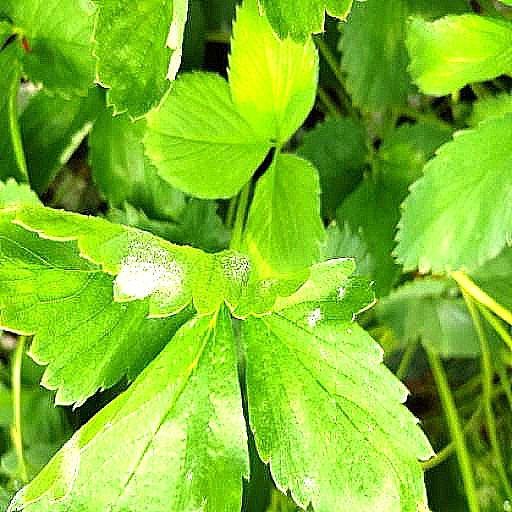Powdery Mildew Leaf: (258, 101, 511, 314), (74, 0, 282, 254), (262, 0, 507, 207), (322, 390, 424, 511)
